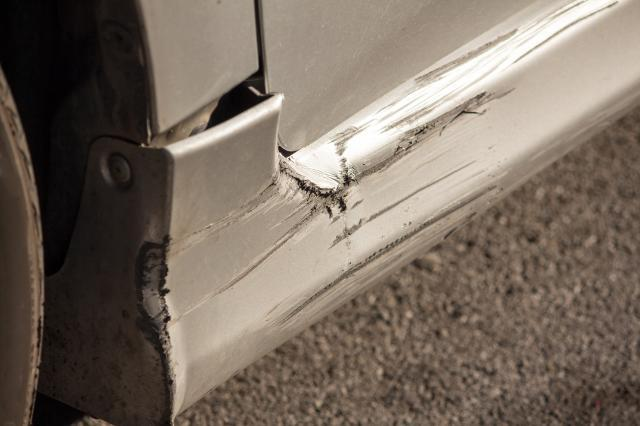scratch: (134, 0, 640, 383)
